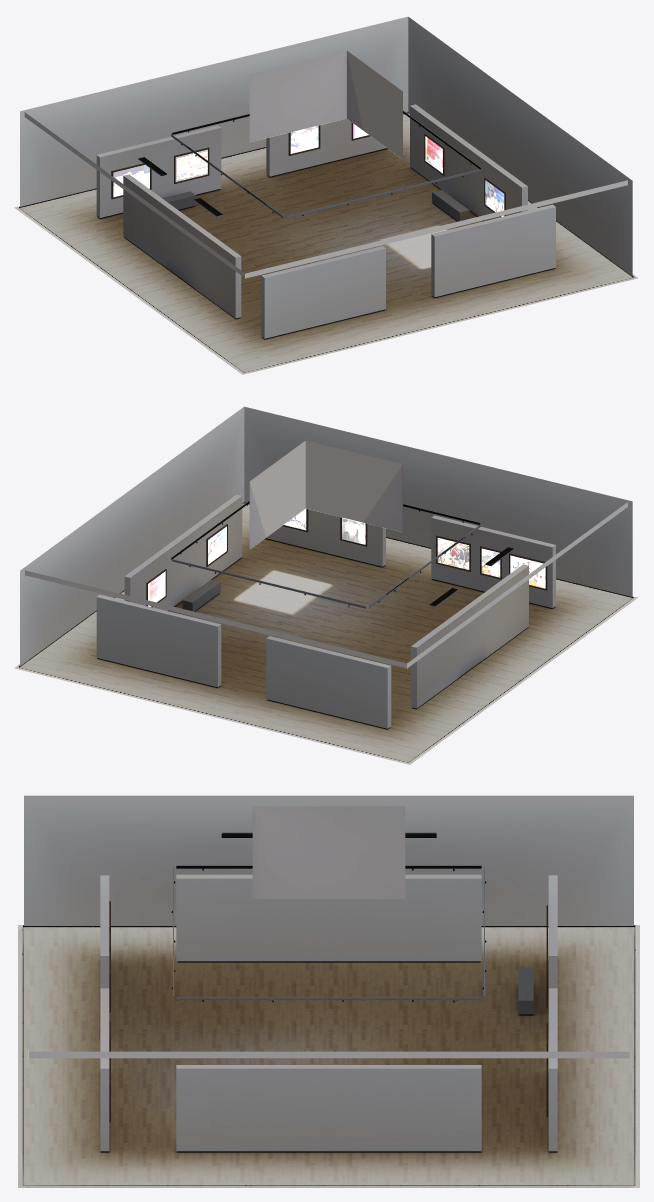
File: selfless-services-gallery.gltf
The picture shows the model from 3 angles, top to bottom: view 1: azimuth 30°, elevation 25°; view 2: azimuth 150°, elevation 25°; view 3: azimuth 270°, elevation 25°; orthographic projection. The views are drawn at different scales.
Visible parts, largest first — view 1: floor, walls_exterior, walls, celling, props, Wall3_10_Scan-222, Wall3_11_Scan-253, Wall3_08_Scan-216, Wall1_01_dec_28, Wall1_02_III_Mission_Service_Camp_3; view 2: floor, walls_exterior, walls, celling, props, Wall2_05_III_Mission_Service_Camp_1, Wall2_07_Scan-188, Wall2_04_rajinder-0039, Wall1_02_III_Mission_Service_Camp_3, Wall2_06_6-5, Wall1_01_dec_28; view 3: floor, walls, walls_exterior, celling, props.
Part boxes in pixels (x1=…): floor: x1=14, y1=113, x2=637, y2=374; walls_exterior: x1=19, y1=16, x2=633, y2=277; walls: x1=96, y1=104, x2=555, y2=339; celling: x1=24, y1=50, x2=627, y2=278; props: x1=138, y1=110, x2=481, y2=221; Wall3_10_Scan-222: x1=174, y1=147, x2=209, y2=183; Wall3_11_Scan-253: x1=288, y1=125, x2=320, y2=155; Wall3_08_Scan-216: x1=111, y1=161, x2=151, y2=199; Wall1_01_dec_28: x1=424, y1=134, x2=444, y2=175; Wall1_02_III_Mission_Service_Camp_3: x1=484, y1=177, x2=505, y2=217; floor: x1=14, y1=503, x2=637, y2=764; walls_exterior: x1=19, y1=406, x2=633, y2=667; walls: x1=96, y1=494, x2=555, y2=729; celling: x1=24, y1=440, x2=627, y2=668; props: x1=171, y1=500, x2=514, y2=611; Wall2_05_III_Mission_Service_Camp_1: x1=436, y1=535, x2=470, y2=571; Wall2_07_Scan-188: x1=509, y1=553, x2=547, y2=590; Wall2_04_rajinder-0039: x1=340, y1=517, x2=367, y2=546; Wall1_02_III_Mission_Service_Camp_3: x1=206, y1=524, x2=227, y2=567; Wall2_06_6-5: x1=480, y1=546, x2=501, y2=579; Wall1_01_dec_28: x1=146, y1=569, x2=166, y2=607; floor: x1=18, y1=925, x2=639, y2=1187; walls: x1=100, y1=874, x2=557, y2=1152; walls_exterior: x1=22, y1=795, x2=635, y2=954; celling: x1=28, y1=806, x2=629, y2=1058; props: x1=171, y1=832, x2=533, y2=1015.
Bounding box in the file's own units: 16.65 × 6.44 × 16.75.
